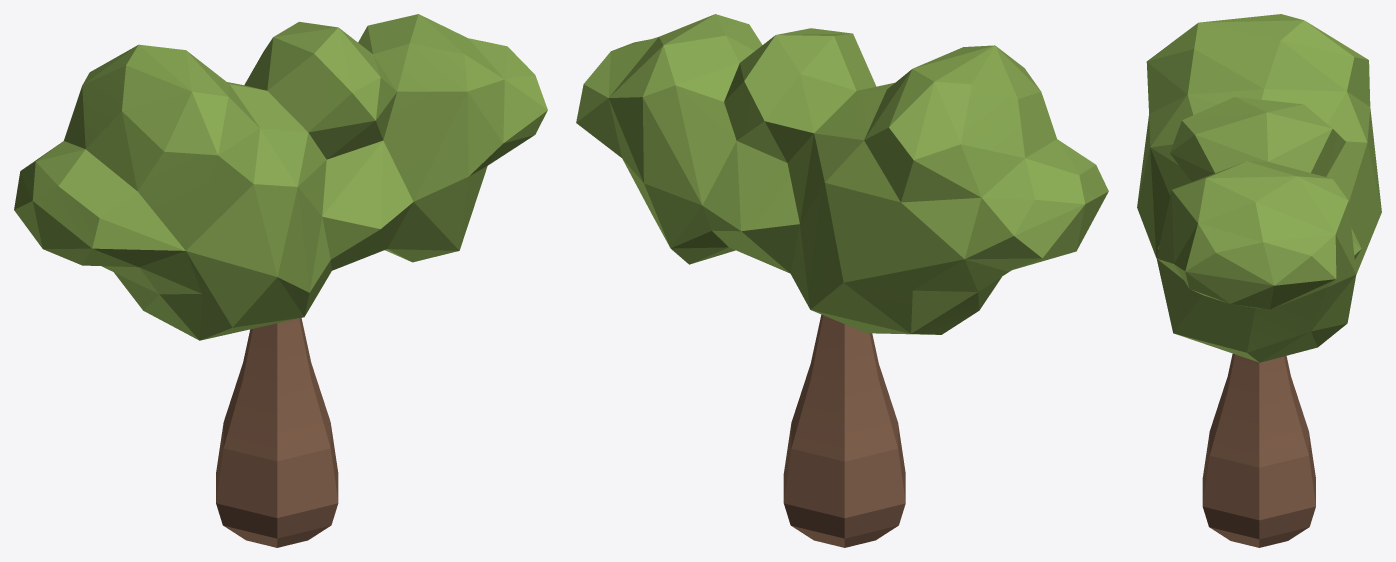
Rendered from tropical_tree_5.fbx.
3 views of the same model, side by side, from view 1: azimuth 30°, elevation 25°; view 2: azimuth 150°, elevation 25°; view 3: azimuth 270°, elevation 25° (orthographic). The views are drawn at different scales.
Parts seen in each view (by area): view 1: tropical_trees_5; view 2: tropical_trees_5; view 3: tropical_trees_5.
Boxes of the visible parts, bbox=[...] form: tropical_trees_5: bbox=[14, 14, 547, 547]; tropical_trees_5: bbox=[576, 14, 1108, 547]; tropical_trees_5: bbox=[1137, 14, 1381, 547].
Bounding box in the file's own units: 614 × 593 × 285.
